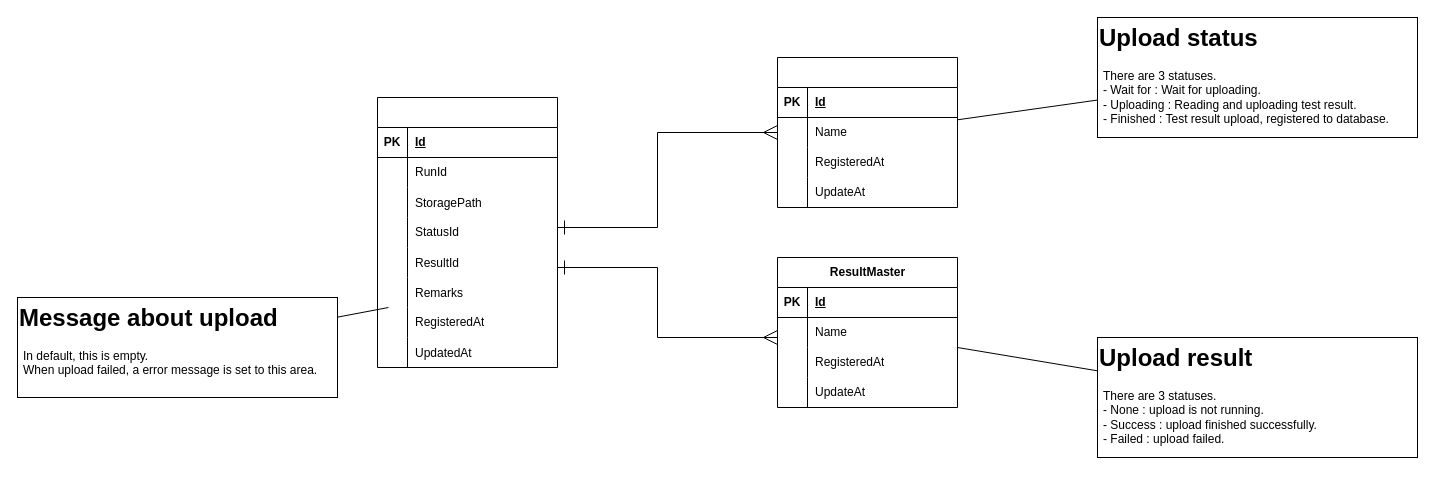
Some shapes in this 1435 by 478 pixel diagram are drawn without their labels. The box of each missing label's shape, as (x1, y1, x2, y2) in pixels:
StatusMaster: (776, 56, 958, 208)
Upload: (376, 96, 558, 368)
